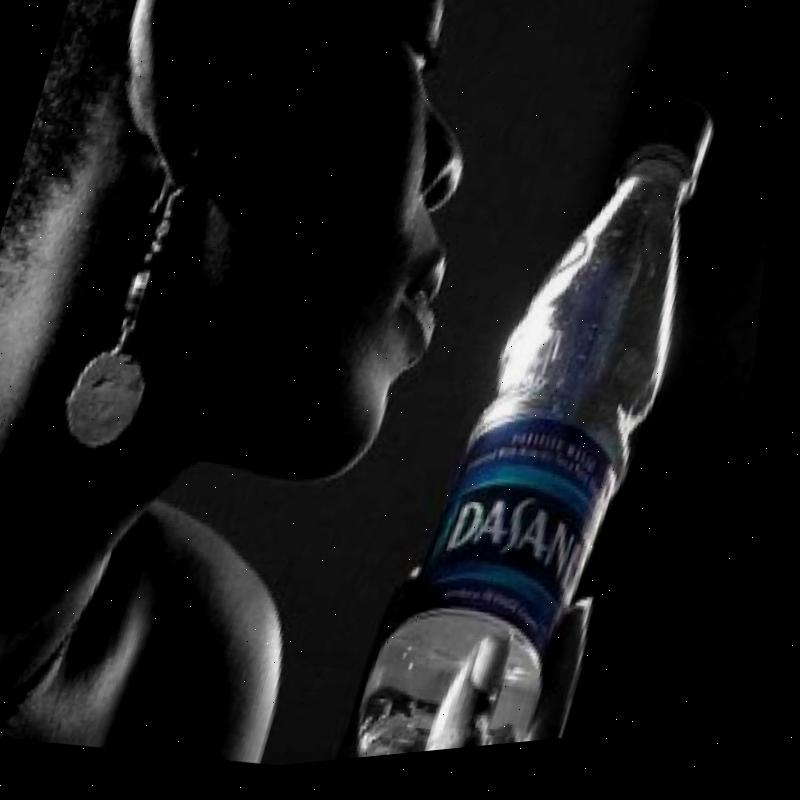botella: (355, 86, 753, 768)
